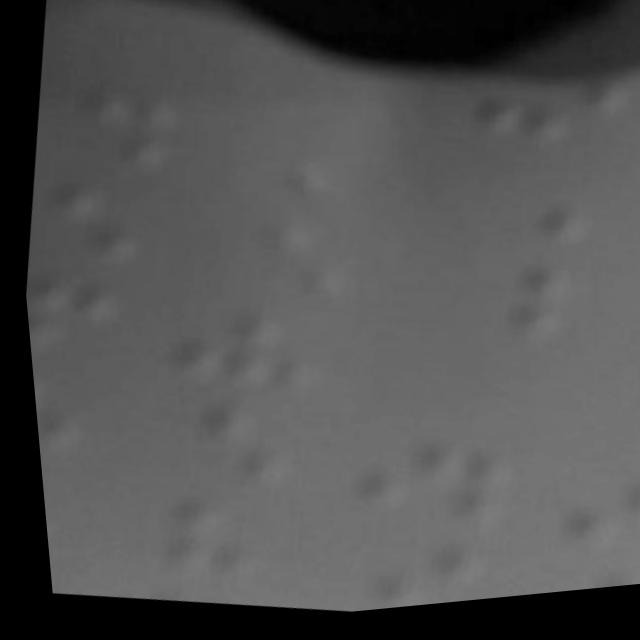braiile: (408, 152, 614, 275), (391, 243, 592, 368), (328, 415, 528, 539), (193, 193, 383, 321), (126, 381, 311, 504), (155, 291, 338, 414), (27, 66, 208, 188), (305, 516, 493, 620), (18, 168, 176, 281), (543, 478, 640, 579), (511, 571, 639, 605)
